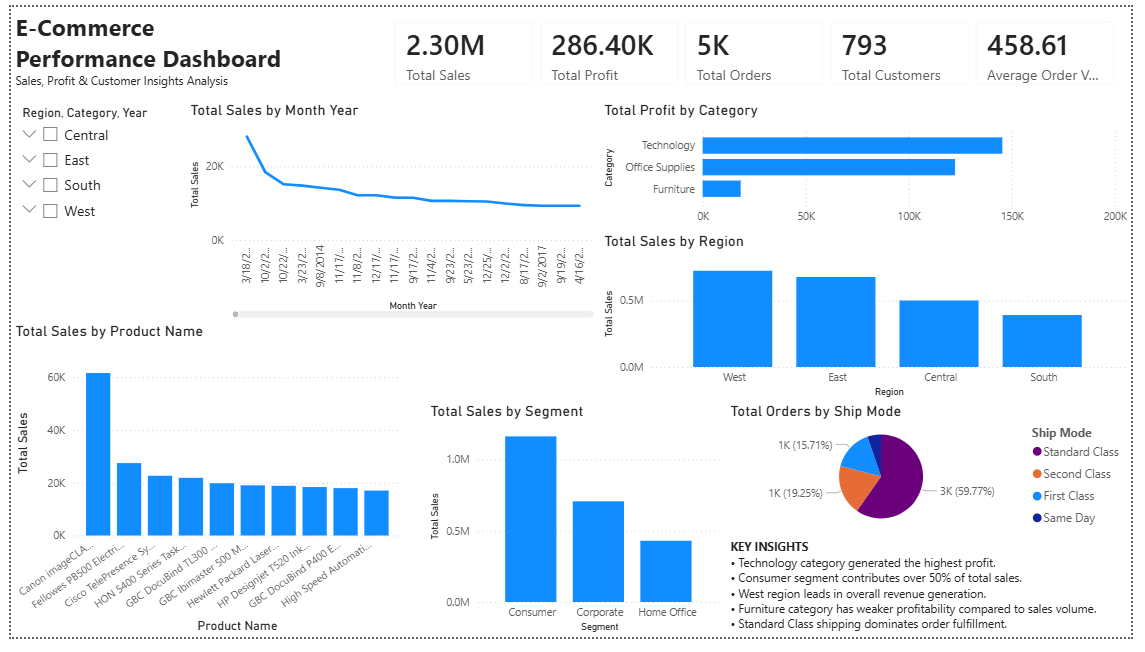

What the dashboard file says about the page in this screenshot:
{"tool":"powerbi","page":{"name":"Page 1","canvas":[1280,720],"ordinal":0},"visuals":[{"type":"cardVisual","fields":{"Data":["Sample - Superstore.Total Sales","Sample - Superstore.Total Profit","Sample - Superstore.Total Orders","Sample - Superstore.Total Customers","Sample - Superstore.Average Order Value"]},"box":[421.7,0,856.7,106.7],"z":0},{"type":"lineChart","fields":{"Category":["Sample - Superstore.Month Year"],"Y":["Sample - Superstore.Total Sales"]},"box":[200,106.7,471.7,253.3],"z":1000},{"type":"barChart","fields":{"Category":["Sample - Superstore.Category"],"Y":["Sample - Superstore.Total Profit"]},"box":[672.2,106.7,607.8,150],"z":2000},{"type":"columnChart","fields":{"Category":["Sample - Superstore.Region"],"Y":["Sample - Superstore.Total Sales"]},"box":[672.9,257.1,607.1,194.3],"z":3000},{"type":"columnChart","fields":{"Category":["Sample - Superstore.Product Name"],"Y":["Sample - Superstore.Total Sales"]},"box":[0,360,451.4,360],"z":4000},{"type":"columnChart","fields":{"Category":["Sample - Superstore.Segment"],"Y":["Sample - Superstore.Total Sales"]},"box":[474.3,451.4,342.9,268.6],"z":5000},{"type":"pieChart","fields":{"Category":["Sample - Superstore.Ship Mode"],"Y":["Sample - Superstore.Total Orders"]},"box":[817.1,451.4,462.9,151.4],"z":6000},{"type":"textbox","box":[0,0,323.3,106.7],"z":7000},{"type":"textbox","box":[816.7,603.3,463.3,116.7],"z":8000},{"type":"slicer","fields":{"Values":["Sample - Superstore.Region","Sample - Superstore.Category","Sample - Superstore.Year"]},"box":[0,106.7,200,248.3],"z":8001}]}

Visuals, with their boxes in screenshot pixels (x1, y1, x2, y2), scaled from the page's 1280x720 canvas onto the 1145x652 screenshot:
cardVisual - Sample - Superstore.Total Sales x Sample - Superstore.Total Profit: (377,0,1144,97)
lineChart - Sample - Superstore.Month Year x Sample - Superstore.Total Sales: (179,97,601,326)
barChart - Sample - Superstore.Category x Sample - Superstore.Total Profit: (601,97,1144,232)
columnChart - Sample - Superstore.Region x Sample - Superstore.Total Sales: (602,233,1144,409)
columnChart - Sample - Superstore.Product Name x Sample - Superstore.Total Sales: (0,326,404,651)
columnChart - Sample - Superstore.Segment x Sample - Superstore.Total Sales: (424,409,731,651)
pieChart - Sample - Superstore.Ship Mode x Sample - Superstore.Total Orders: (731,409,1144,546)
textbox: (0,0,289,97)
textbox: (731,546,1144,651)
slicer - Sample - Superstore.Region x Sample - Superstore.Category: (0,97,179,321)
